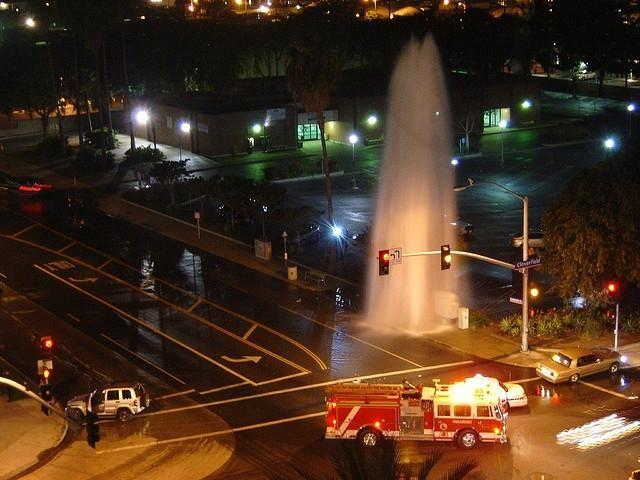car: (536, 345, 627, 385), (65, 382, 151, 423), (452, 378, 528, 412), (286, 222, 322, 248), (18, 182, 41, 198)
truck: (324, 376, 510, 450)
